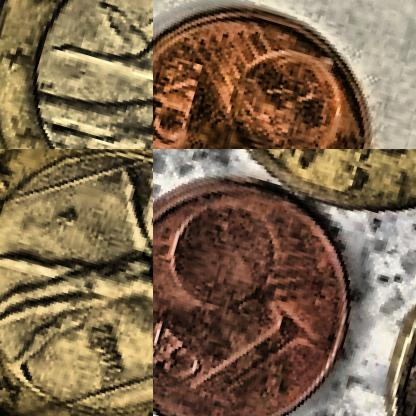coin: (153, 149, 388, 415), (0, 149, 152, 415), (153, 0, 407, 148), (0, 0, 152, 148)
